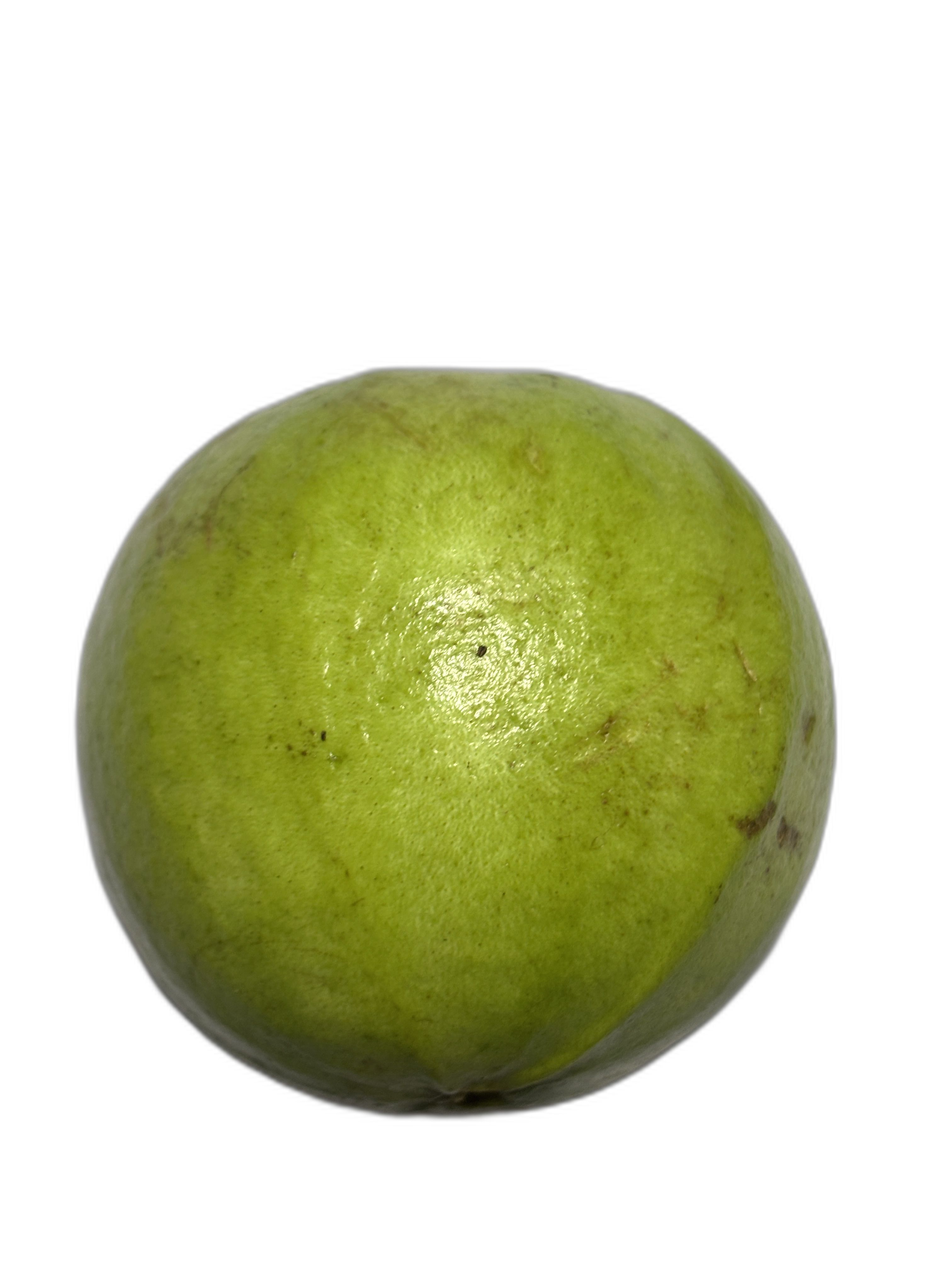guava: (237, 243, 890, 1194)
